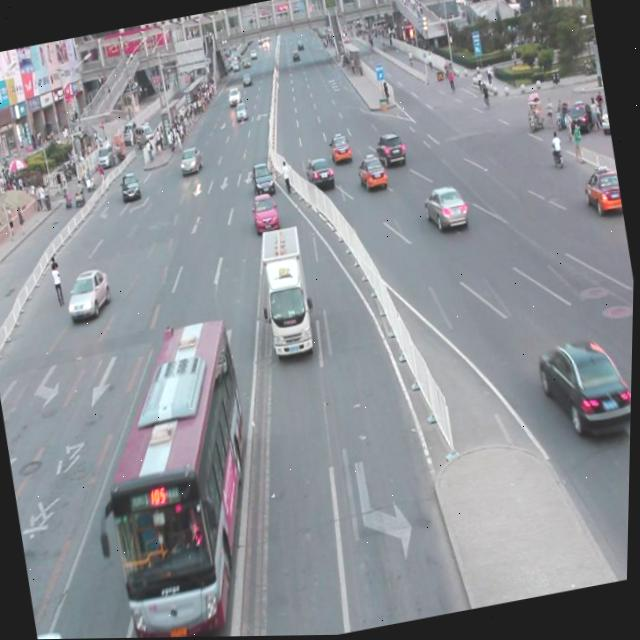bus: (251, 225, 324, 360)
car: (532, 328, 634, 444), (63, 266, 116, 320), (420, 181, 470, 235), (581, 167, 623, 213), (250, 190, 281, 233), (357, 152, 388, 190), (374, 133, 406, 166), (305, 156, 334, 191), (250, 161, 276, 196), (178, 145, 205, 174), (118, 170, 142, 202), (327, 134, 352, 163), (39, 625, 88, 639)
van: (71, 316, 281, 639)
